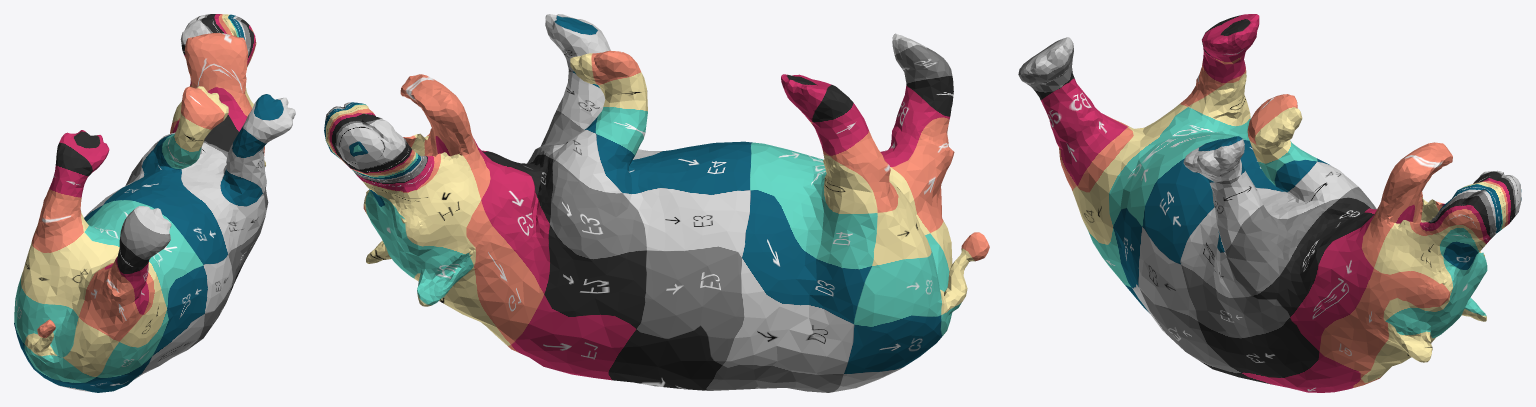
The model's file is dog_08-hippo_06.obj.
3 renders of one model, left to right at view 1: azimuth 30°, elevation 25°; view 2: azimuth 150°, elevation 25°; view 3: azimuth 270°, elevation 25°, orthographic. The views are drawn at different scales.
Visible parts, largest first — view 1: dog_08-hippo_06_export; view 2: dog_08-hippo_06_export; view 3: dog_08-hippo_06_export.
Boxes of the visible parts, x1,y1,x2,y2 form: dog_08-hippo_06_export: (14,14,295,392); dog_08-hippo_06_export: (324,14,989,392); dog_08-hippo_06_export: (1018,14,1521,392).
Size of the model in its own units: 0.7416 by 0.49 by 0.7229.
